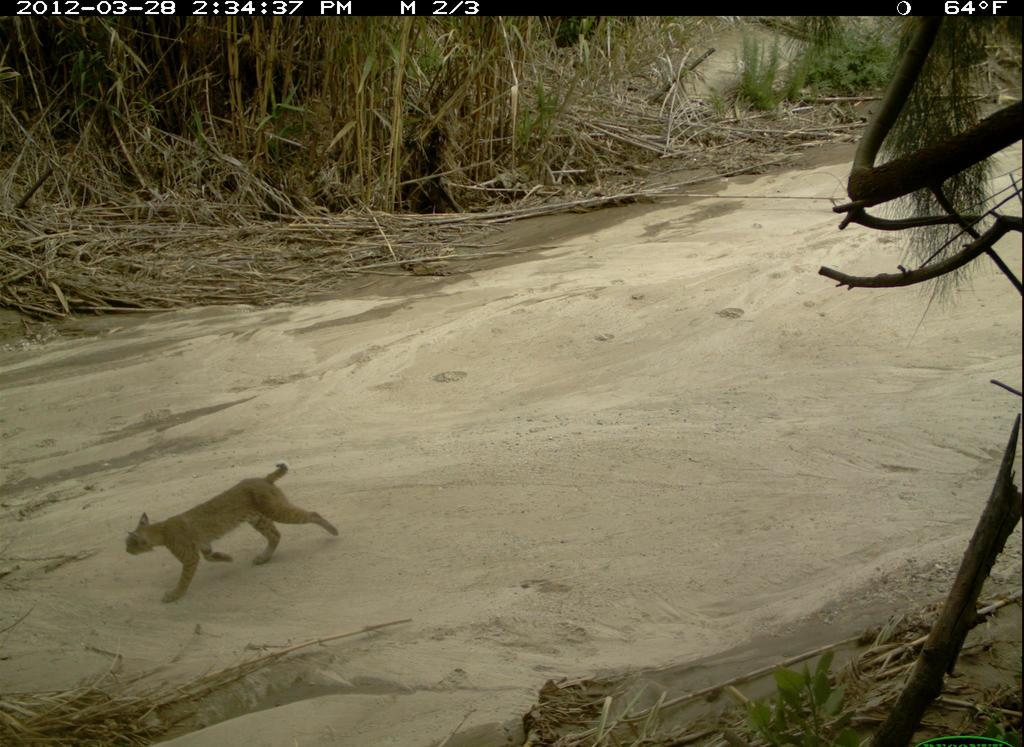bobcat: (125, 459, 345, 607)
